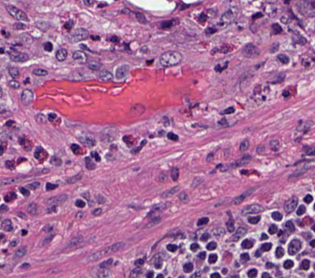nucleus: (159, 51, 181, 66), (233, 189, 252, 204), (148, 203, 167, 216), (45, 194, 67, 205), (242, 43, 259, 57), (70, 28, 88, 41), (241, 204, 263, 214), (161, 186, 179, 197), (115, 64, 128, 78), (34, 147, 47, 161), (284, 198, 297, 212), (232, 155, 250, 165), (230, 228, 245, 240), (221, 10, 234, 23), (132, 140, 145, 153), (67, 235, 82, 246), (145, 217, 160, 227), (73, 51, 86, 62), (99, 70, 112, 81), (67, 173, 81, 183), (56, 48, 67, 60), (42, 234, 53, 245), (85, 157, 95, 169), (88, 61, 101, 70), (226, 216, 233, 232), (135, 13, 146, 23), (71, 144, 82, 154), (27, 203, 37, 214), (213, 227, 224, 237), (215, 62, 227, 71), (82, 137, 94, 146), (32, 68, 47, 75), (123, 135, 133, 145), (277, 54, 288, 63), (270, 140, 279, 151), (50, 156, 61, 165), (191, 178, 202, 187), (285, 221, 294, 232), (241, 239, 252, 248), (221, 107, 234, 114), (171, 167, 178, 180), (272, 23, 281, 33), (91, 151, 100, 161), (179, 192, 188, 202), (271, 211, 281, 220), (161, 20, 172, 28), (197, 217, 208, 225), (27, 182, 39, 189), (64, 20, 73, 29), (43, 42, 52, 51), (167, 132, 177, 140), (240, 140, 248, 150), (45, 183, 56, 190), (248, 216, 259, 223), (75, 199, 84, 207), (297, 205, 305, 214), (217, 119, 227, 126), (206, 242, 216, 249), (48, 113, 56, 121), (36, 114, 44, 122), (268, 225, 276, 233), (92, 208, 101, 215), (46, 206, 56, 212), (97, 195, 104, 203), (304, 195, 312, 202), (43, 225, 52, 231), (199, 14, 206, 21), (201, 233, 208, 240), (111, 36, 118, 42), (84, 1, 93, 5), (261, 233, 267, 239), (253, 13, 261, 17), (207, 28, 215, 32), (99, 3, 106, 7), (91, 35, 98, 39), (310, 239, 314, 246), (77, 212, 82, 217), (278, 230, 282, 235)
